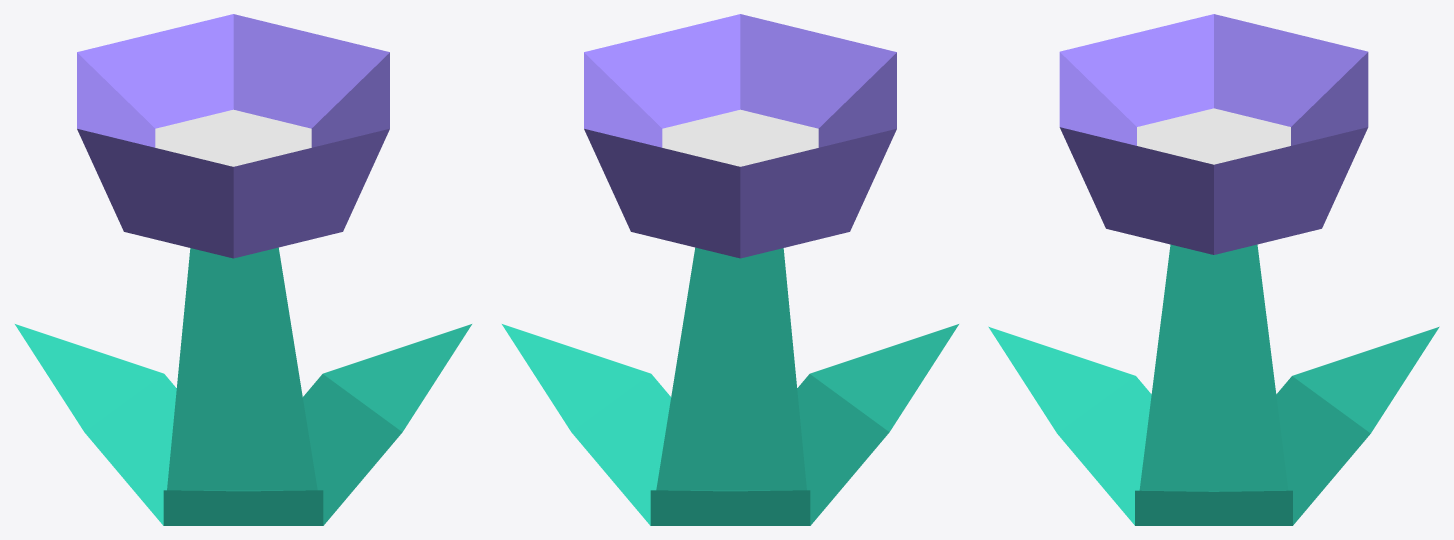
The model's file is flower_purpleC.obj.
The picture shows the model from 3 angles, left to right: view 1: azimuth 30°, elevation 25°; view 2: azimuth 150°, elevation 25°; view 3: azimuth 270°, elevation 25°; orthographic projection.
Visible parts, largest first — view 1: flower_purpleC; view 2: flower_purpleC; view 3: flower_purpleC.
Part boxes in pixels (bbox=[...]): flower_purpleC: bbox=[15, 14, 471, 525]; flower_purpleC: bbox=[502, 14, 958, 525]; flower_purpleC: bbox=[988, 14, 1439, 525].
Bounding box in the file's own units: 0.1806 × 0.1825 × 0.1811.
